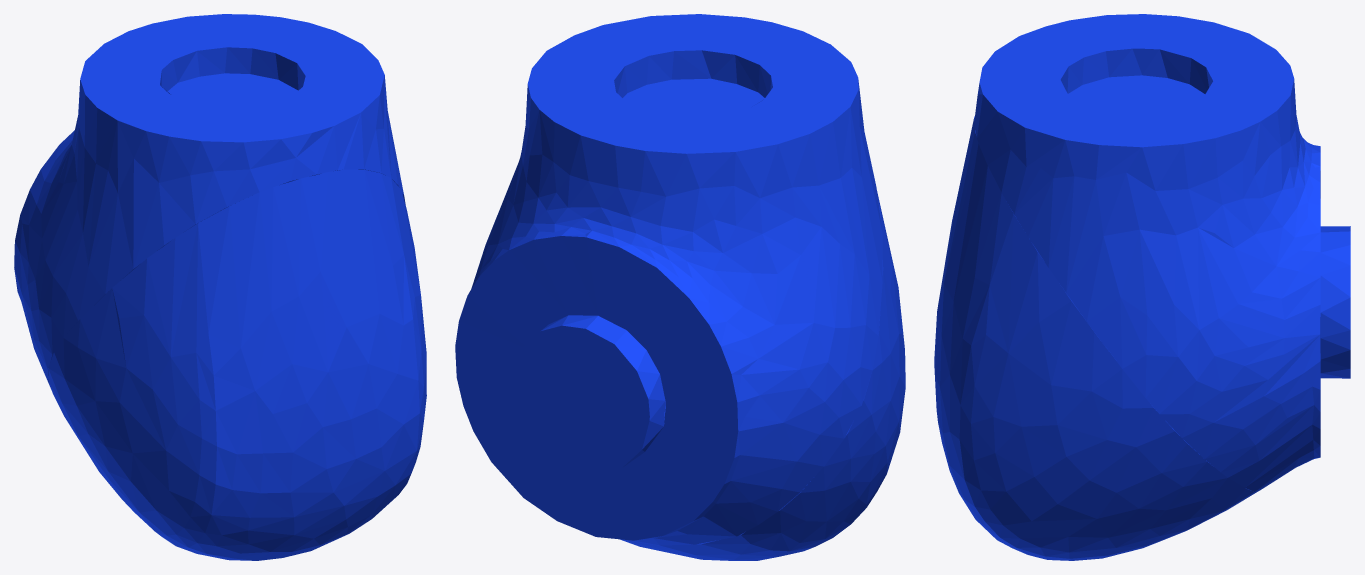
3 views of the same model, side by side, from view 1: azimuth 30°, elevation 25°; view 2: azimuth 150°, elevation 25°; view 3: azimuth 270°, elevation 25° (orthographic). The views are drawn at different scales.
Parts seen in each view (by area): view 1: Link_6; view 2: Link_6; view 3: Link_6.
Part boxes in pixels (x1,y1,x2,y2): Link_6: (14, 14, 426, 560); Link_6: (455, 14, 905, 560); Link_6: (934, 14, 1350, 560).
Bounding box in the file's own units: 0.1323 × 0.1674 × 0.1377.
Materials: 1 (1 with a texture image).
